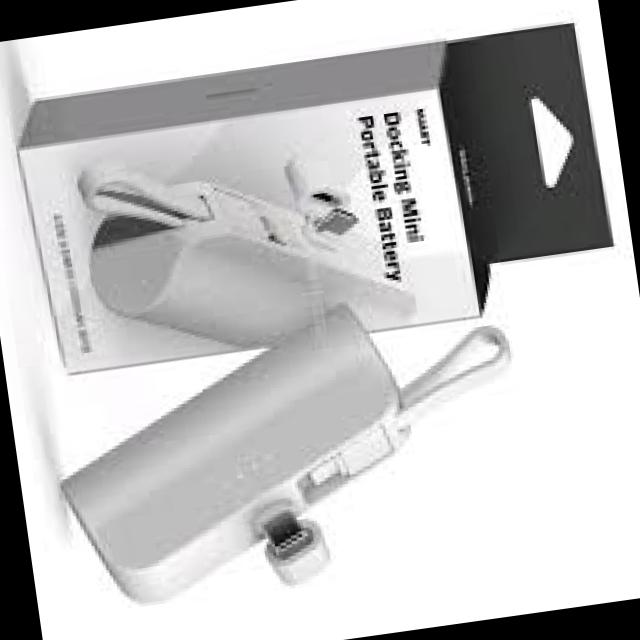power_bank: (27, 302, 430, 623), (71, 126, 421, 368)
